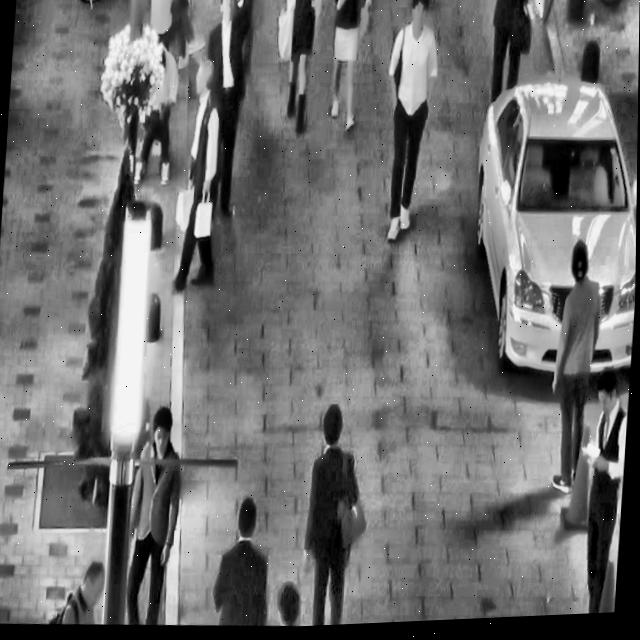light_vehicle: (458, 60, 639, 398)
